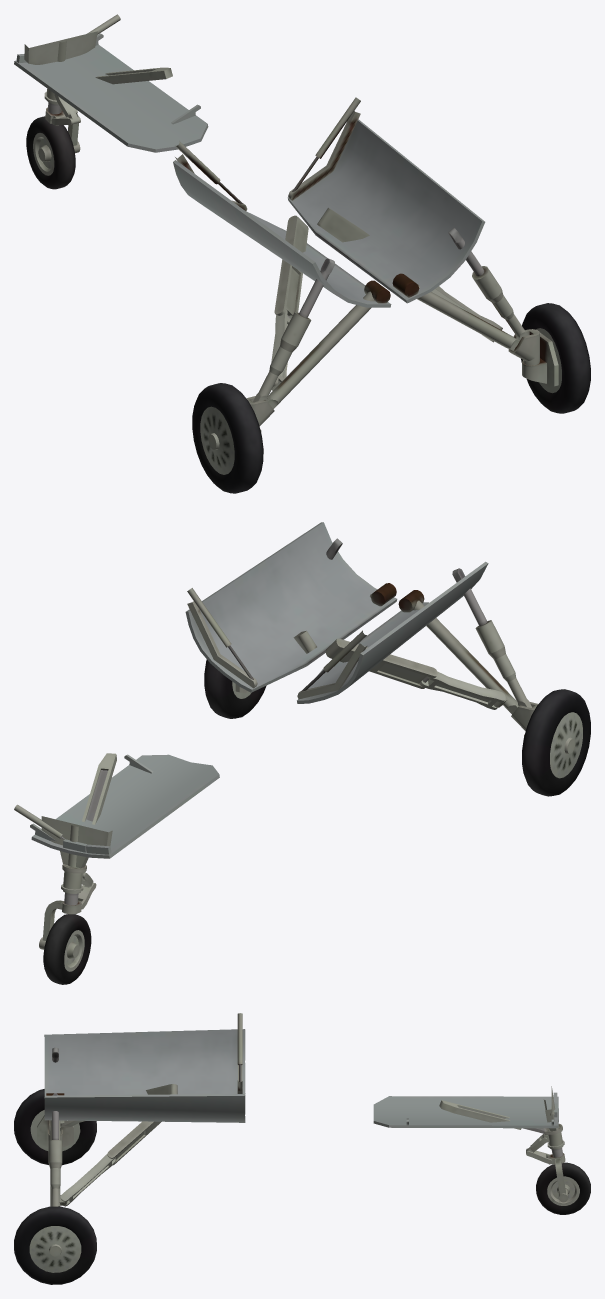
File: gear.glb
The picture shows the model from 3 angles, top to bottom: view 1: azimuth 30°, elevation 25°; view 2: azimuth 150°, elevation 25°; view 3: azimuth 270°, elevation 25°; orthographic projection. The views are drawn at different scales.
Visible parts, largest first — view 1: F-16_capR_LOD0_3, F-16_capFlont_LOD0_1, F-16_whelL_LOD0_37, F-16_capL_LOD0_2, F-16_whelR_LOD0_38, F-16_whel_LOD0_36, F-16_chassesFront1_LOD0_4, F-16_chassesL1_LOD0_7, F-16_chassesL2_LOD0_8, F-16_chassesL3_LOD0_9, F-16_chassesR1_LOD0_11, F-16_chassesR4_LOD0_14 (+3 smaller); view 2: F-16_capR_LOD0_3, F-16_capFlont_LOD0_1, F-16_whelL_LOD0_37, F-16_capL_LOD0_2, F-16_chassesFront1_LOD0_4, F-16_chassesL2_LOD0_8, F-16_whel_LOD0_36, F-16_chassesL1_LOD0_7, F-16_whelR_LOD0_38, F-16_chassesL3_LOD0_9, F-16_chassesFront2_LOD0_5; view 3: F-16_capL_LOD0_2, F-16_capR_LOD0_3, F-16_capFlont_LOD0_1, F-16_whelR_LOD0_38, F-16_whelL_LOD0_37, F-16_whel_LOD0_36, F-16_chassesR2_LOD0_12, F-16_chassesFront1_LOD0_4, F-16_chassesR3_LOD0_13, F-16_chassesFront2_LOD0_5, F-16_chassesL4_LOD0_10, F-16_chassesL2_LOD0_8.
Part boxes in pixels (box(x1,y1,x2,y2)): F-16_capR_LOD0_3: box(287, 97, 485, 303); F-16_capFlont_LOD0_1: box(14, 14, 208, 152); F-16_whelL_LOD0_37: box(192, 383, 263, 493); F-16_capL_LOD0_2: box(173, 141, 391, 307); F-16_whelR_LOD0_38: box(521, 303, 590, 413); F-16_whel_LOD0_36: box(26, 116, 75, 189); F-16_chassesFront1_LOD0_4: box(24, 31, 97, 153); F-16_chassesL1_LOD0_7: box(267, 280, 390, 408); F-16_chassesL2_LOD0_8: box(271, 215, 308, 386); F-16_chassesL3_LOD0_9: box(253, 258, 334, 402); F-16_chassesR1_LOD0_11: box(392, 273, 519, 350); F-16_chassesR4_LOD0_14: box(508, 329, 558, 387); F-16_capR_LOD0_3: box(185, 522, 397, 692); F-16_capFlont_LOD0_1: box(14, 754, 219, 858); F-16_whelL_LOD0_37: box(522, 689, 590, 796); F-16_capL_LOD0_2: box(297, 561, 488, 703); F-16_chassesFront1_LOD0_4: box(39, 816, 112, 949); F-16_chassesL2_LOD0_8: box(325, 638, 505, 709); F-16_whel_LOD0_36: box(43, 914, 91, 984); F-16_chassesL1_LOD0_7: box(398, 590, 518, 714); F-16_whelR_LOD0_38: box(204, 659, 266, 718); F-16_chassesL3_LOD0_9: box(452, 568, 531, 707); F-16_chassesFront2_LOD0_5: box(82, 753, 116, 824); F-16_capL_LOD0_2: box(44, 1013, 245, 1095); F-16_capR_LOD0_3: box(44, 1080, 245, 1122); F-16_capFlont_LOD0_1: box(373, 1092, 558, 1128); F-16_whelR_LOD0_38: box(14, 1206, 96, 1284); F-16_whelL_LOD0_37: box(14, 1089, 96, 1165); F-16_whel_LOD0_36: box(536, 1162, 590, 1214); F-16_chassesR2_LOD0_12: box(60, 1121, 161, 1206); F-16_chassesFront1_LOD0_4: box(526, 1086, 568, 1202); F-16_chassesR3_LOD0_13: box(48, 1093, 62, 1206); F-16_chassesFront2_LOD0_5: box(439, 1100, 521, 1129); F-16_chassesL4_LOD0_10: box(37, 1115, 73, 1146); F-16_chassesL2_LOD0_8: box(60, 1084, 177, 1127).
Size of the model in its own units: 4.32 by 2.75 by 8.07.
Materials: 1 (1 with a texture image).
